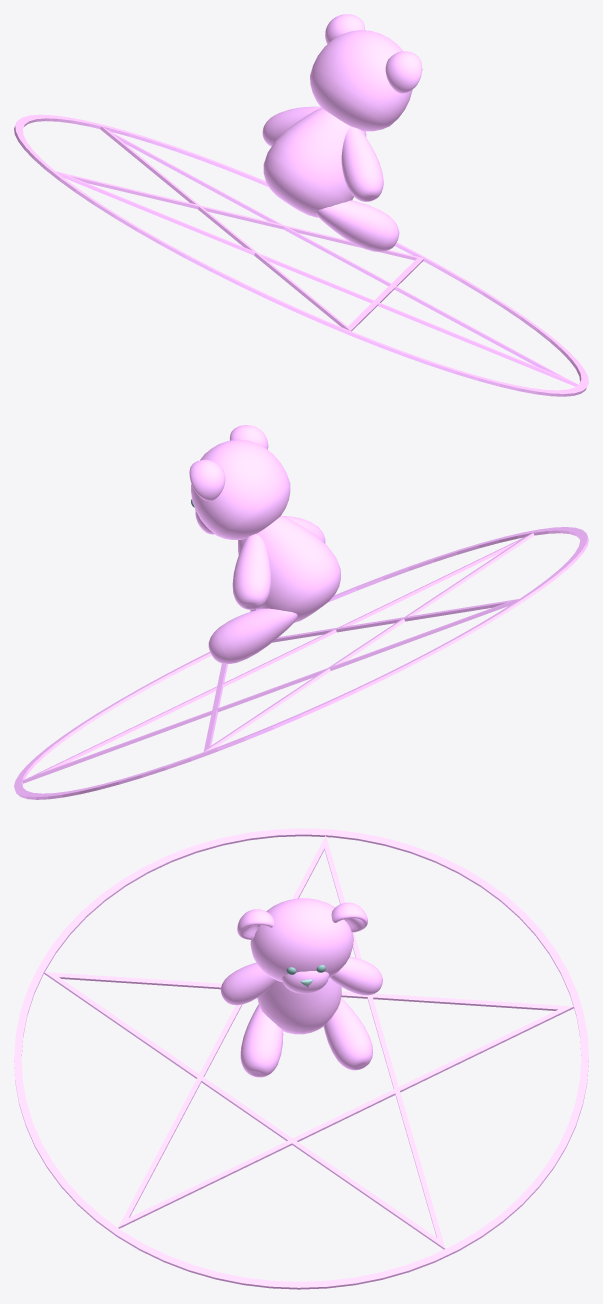
Rendered from pentaclePink.gltf.
3 views of the same model, one above another, from view 1: azimuth 30°, elevation 25°; view 2: azimuth 150°, elevation 25°; view 3: azimuth 270°, elevation 25° (orthographic). The views are drawn at different scales.
Parts seen in each view (by area): view 1: bear002, Circle_pentagram_base_color_0; view 2: bear002, Circle_pentagram_base_color_0; view 3: Circle_pentagram_base_color_0, bear002.
Boxes of the visible parts, bbox=[...] form: bear002: bbox=[262, 14, 422, 251]; Circle_pentagram_base_color_0: bbox=[14, 114, 588, 396]; bear002: bbox=[189, 425, 340, 663]; Circle_pentagram_base_color_0: bbox=[14, 527, 588, 799]; Circle_pentagram_base_color_0: bbox=[14, 828, 588, 1289]; bear002: bbox=[220, 898, 382, 1077].
Bounding box in the file's own units: 7.99 × 5.36 × 9.02.
